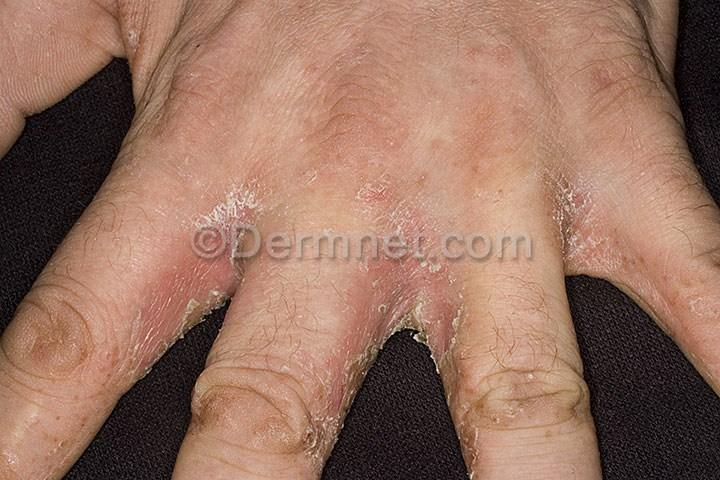Eczema: (542, 166, 626, 228), (392, 205, 449, 286), (494, 95, 561, 162), (289, 46, 352, 106), (456, 127, 514, 187), (228, 151, 291, 204), (176, 241, 238, 293), (356, 162, 405, 227), (501, 391, 552, 450), (586, 38, 626, 111), (429, 70, 496, 113), (43, 387, 97, 439), (18, 432, 76, 480), (459, 44, 531, 82), (86, 347, 146, 392), (371, 285, 433, 327), (220, 62, 282, 104), (426, 277, 466, 342), (650, 262, 695, 317), (292, 382, 337, 437), (423, 350, 471, 401), (453, 390, 480, 480), (360, 67, 414, 112), (218, 188, 271, 233), (372, 102, 411, 162), (559, 234, 617, 273), (138, 244, 189, 287), (139, 287, 191, 329), (175, 123, 228, 164), (349, 296, 384, 358), (620, 241, 667, 287), (372, 23, 421, 65), (404, 168, 451, 210), (686, 328, 720, 386), (118, 318, 169, 356), (175, 450, 242, 478), (331, 310, 350, 407), (547, 188, 590, 230), (419, 121, 455, 169), (359, 249, 403, 287), (286, 437, 339, 468), (469, 392, 517, 425), (683, 262, 720, 303), (79, 370, 126, 402), (320, 361, 362, 396), (327, 153, 377, 181), (563, 387, 588, 438), (519, 353, 552, 387), (282, 4, 325, 29), (124, 30, 158, 61)
